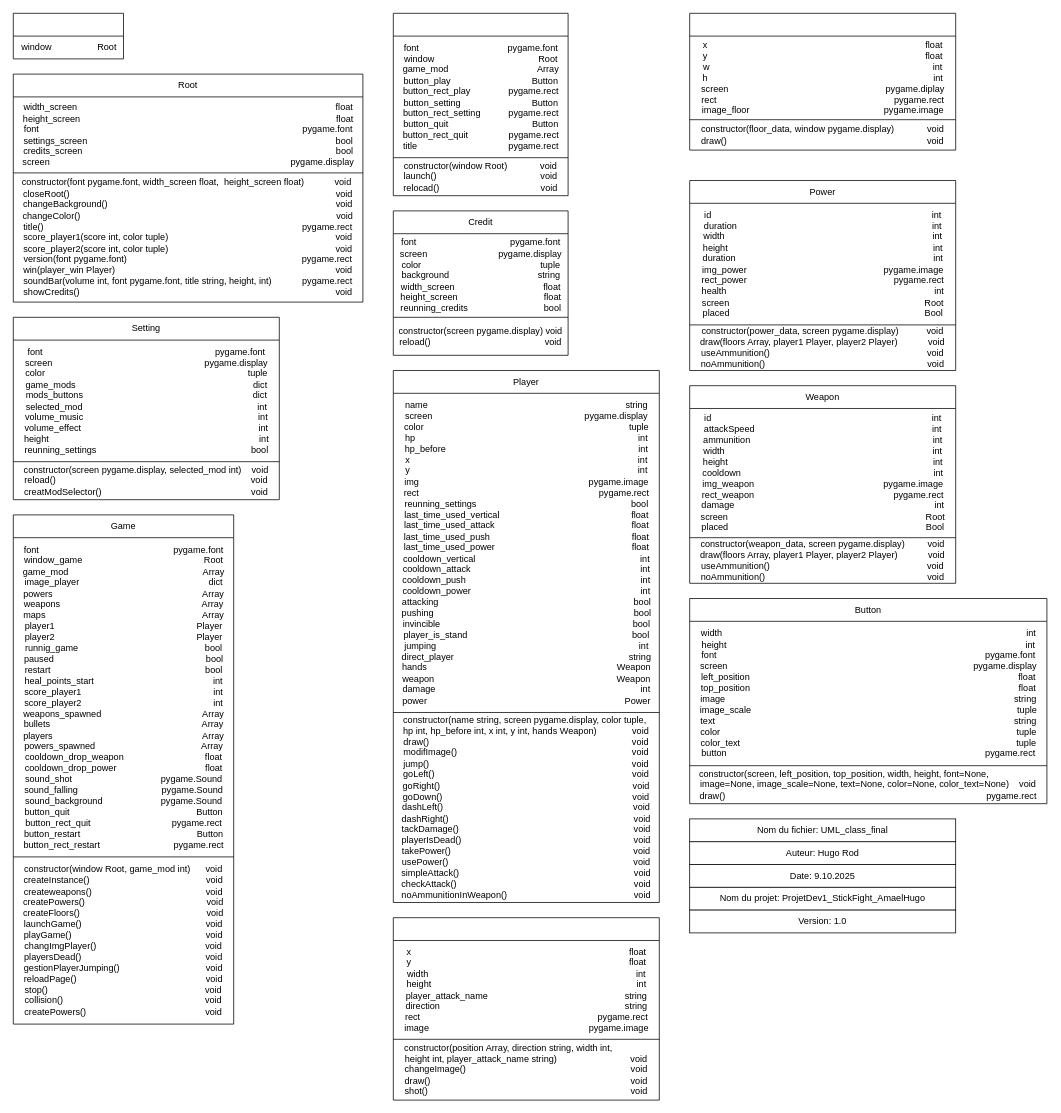
Some shapes in this 1061 by 1113 pixel diagram are drawn without their labels. The box of each missing label's shape, as (x1, y1, x2, y2) in pixels:
Bullet: (393, 917, 659, 1100)
Home: (393, 13, 568, 196)
Main: (13, 13, 124, 59)
Map: (689, 13, 956, 150)
